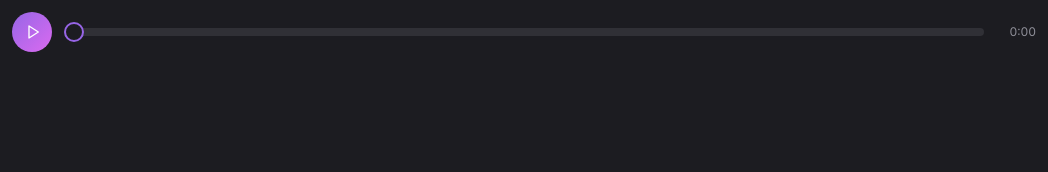
Test case: AudioPlayer › toggles play/pause on button click
Click the button at (32,32), box top-left (12, 12), bottom-right (52, 52)
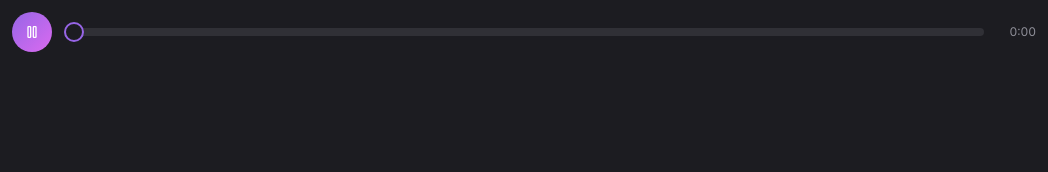
Check: the button has attribute aria-label="a11y.pause"
Click the button at (32,32), box top-left (12, 12), bottom-right (52, 52)
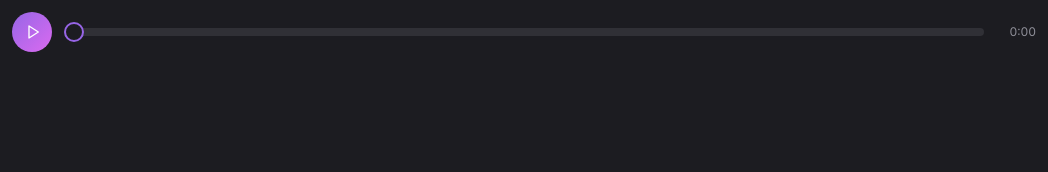
Check: the button has attribute aria-label="a11y.playExcerpt", box top-left (12, 12), bottom-right (52, 52)
